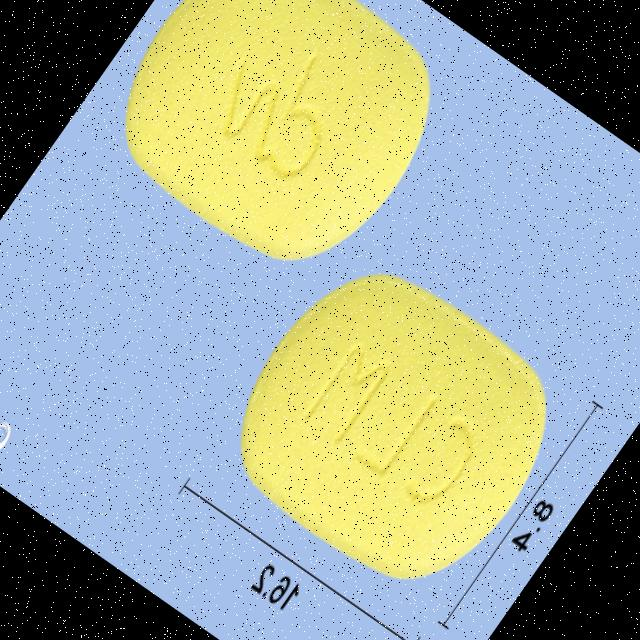Clamicin: (194, 232, 588, 623), (78, 0, 472, 304)
